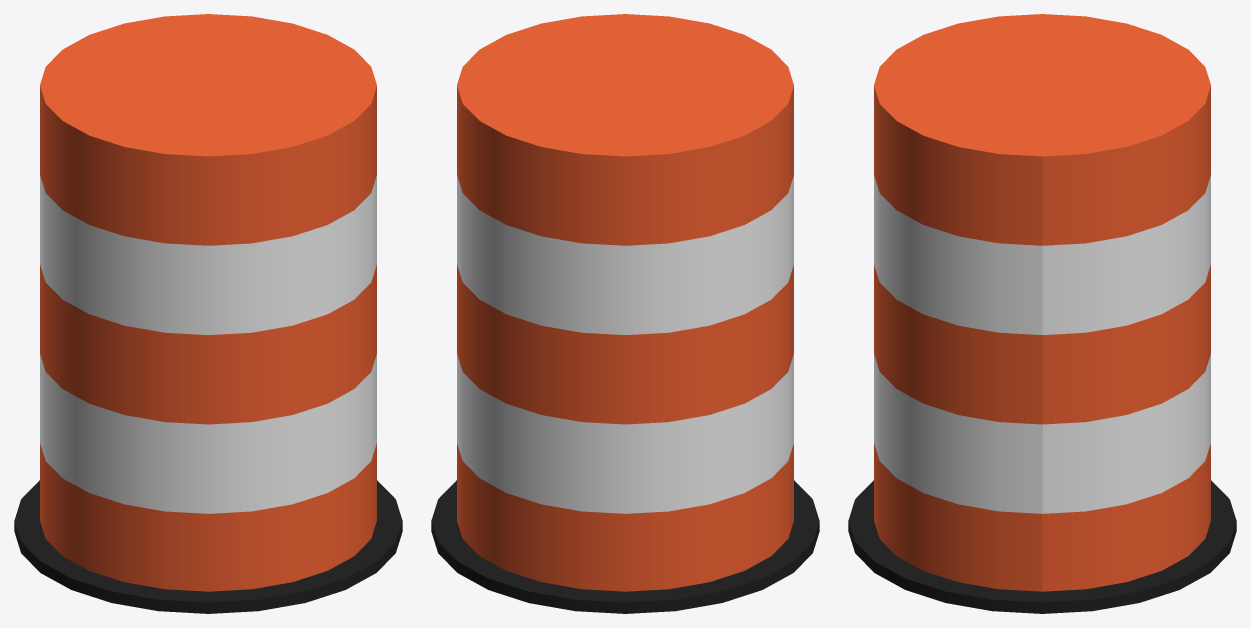
Rendered from traffic_barrel.bak.dae.
3 views of the same model, side by side, from view 1: azimuth 30°, elevation 25°; view 2: azimuth 150°, elevation 25°; view 3: azimuth 270°, elevation 25° (orthographic).
Visible parts, largest first — view 1: SketchUp (×6); view 2: SketchUp (×6); view 3: SketchUp (×6).
Boxes of the visible parts, x1,y1,x2,y2 form: SketchUp (×6): (14, 14, 402, 613); SketchUp (×6): (431, 14, 819, 613); SketchUp (×6): (848, 14, 1236, 613).
Size of the model in its own units: 30.5 by 30.5 by 38.75.
